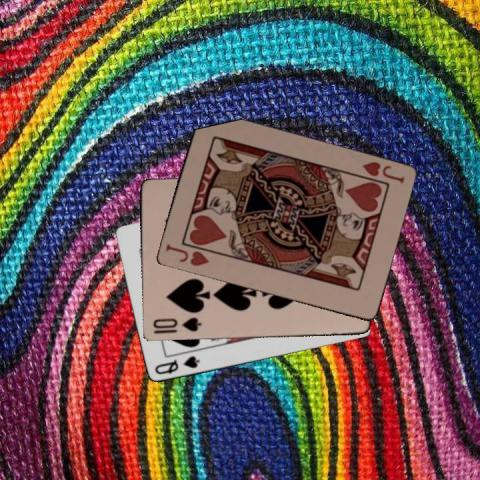10s: (149, 315, 202, 333)
Jh: (162, 241, 210, 268), (359, 159, 405, 186)
Qs: (151, 353, 201, 377)
